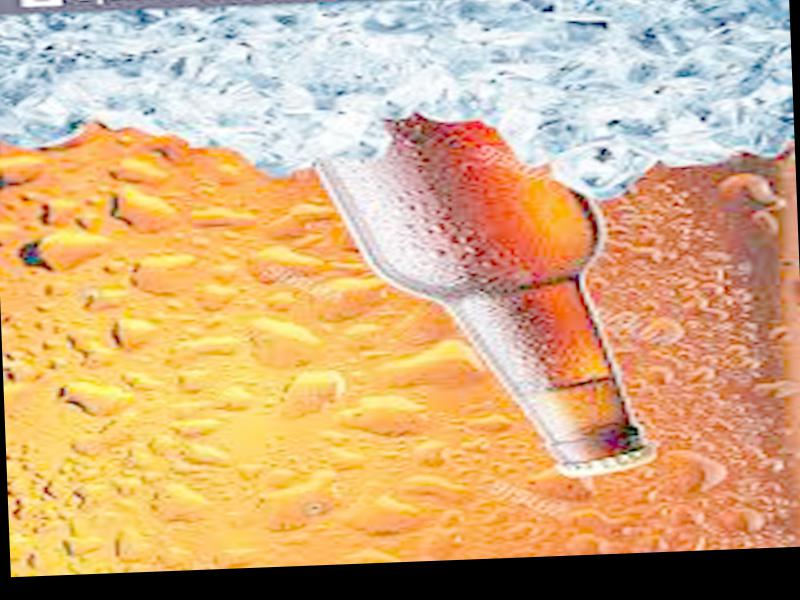Beer: (318, 101, 673, 486)
